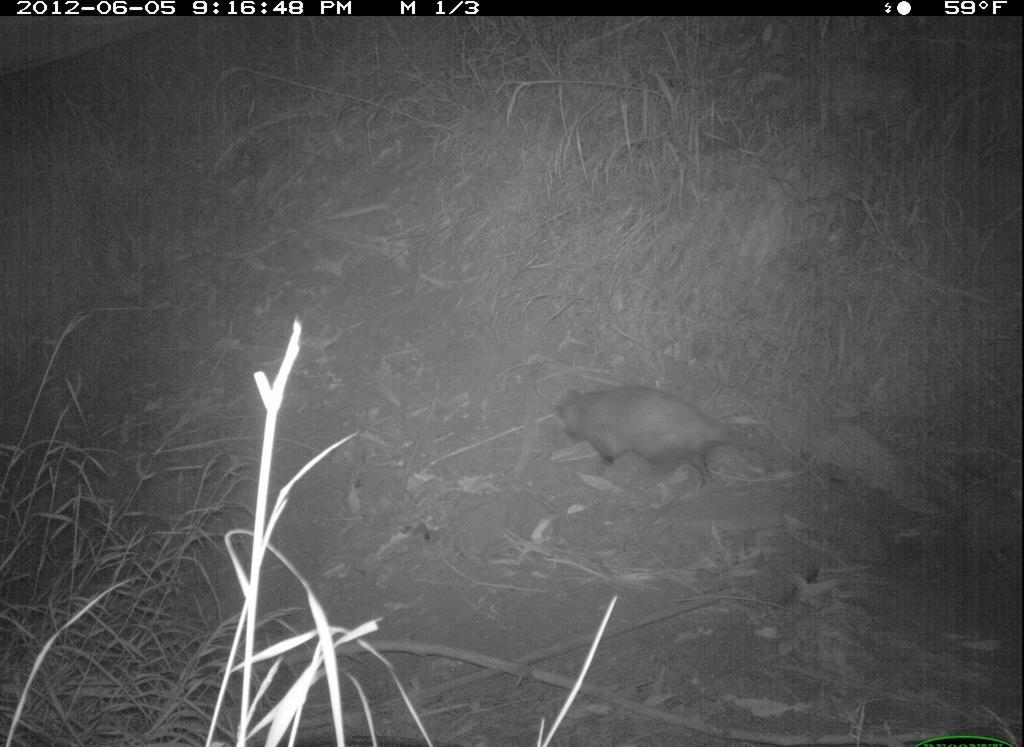opossum: (547, 358, 815, 516)
